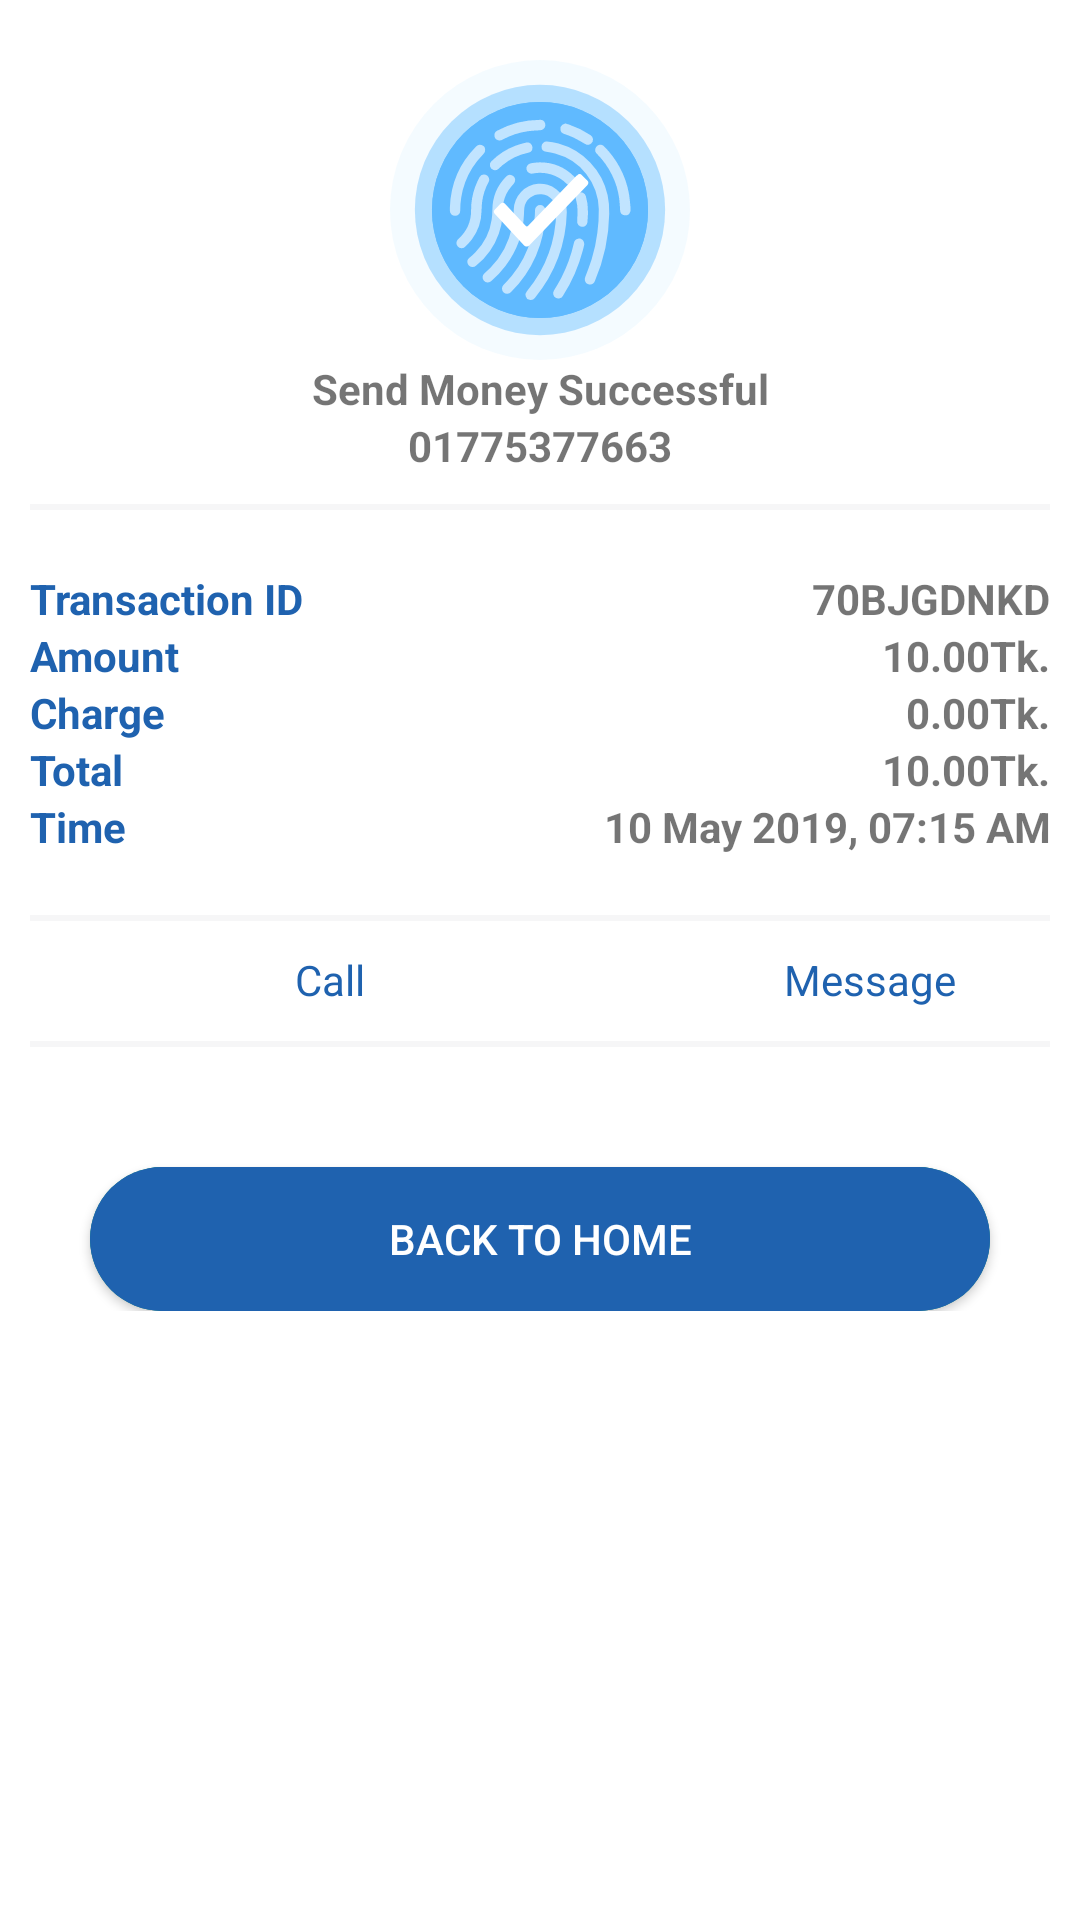

Where to tap for icons on this 1080 x 1920 app screen, as [x,y]:
accept: [540,210]
